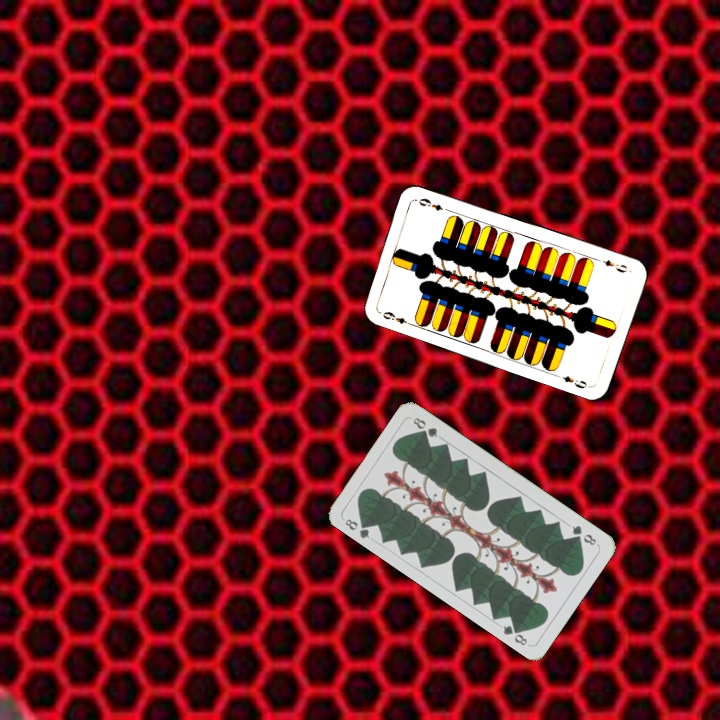E9: (375, 307, 415, 328), (599, 256, 630, 275)
G8: (568, 521, 599, 548), (341, 515, 373, 541)
